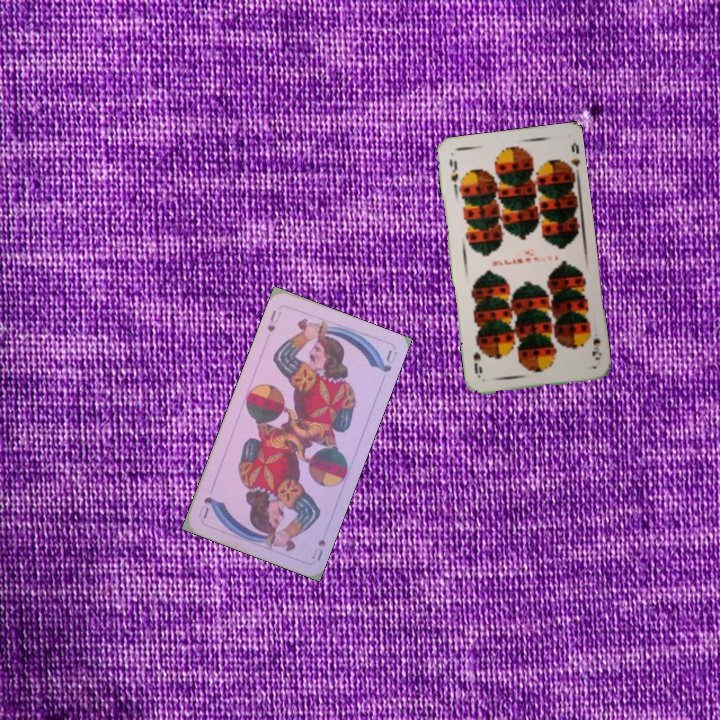S9: (583, 324, 604, 363), (445, 155, 461, 185)
SU: (263, 306, 284, 335), (308, 535, 328, 564)
